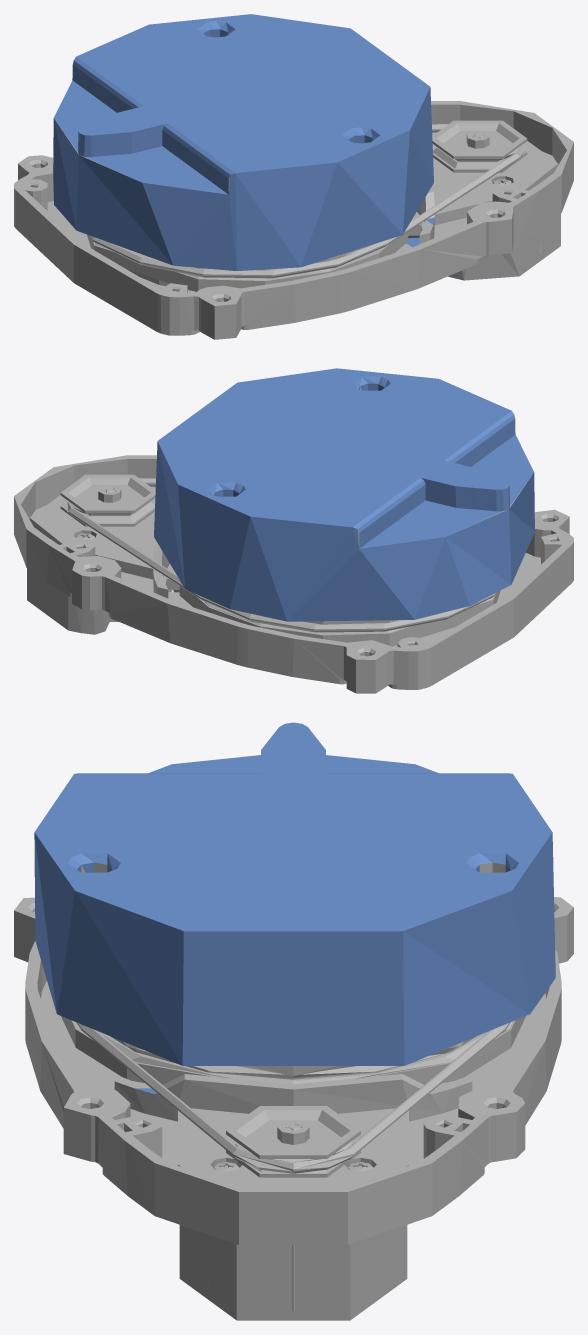
The model's file is lidar.dae.
3 views of the same model, one above another, from view 1: azimuth 30°, elevation 25°; view 2: azimuth 150°, elevation 25°; view 3: azimuth 270°, elevation 25° (orthographic). The views are drawn at different scales.
Visible parts, largest first — view 1: Lds; view 2: Lds; view 3: Lds.
Boxes of the visible parts, left/top/right/bottom form: Lds: left=14, top=14, right=573, bottom=339; Lds: left=14, top=368, right=573, bottom=693; Lds: left=14, top=722, right=573, bottom=1320.
Size of the model in its own units: 0.0938 by 0.0689 by 0.0392.
